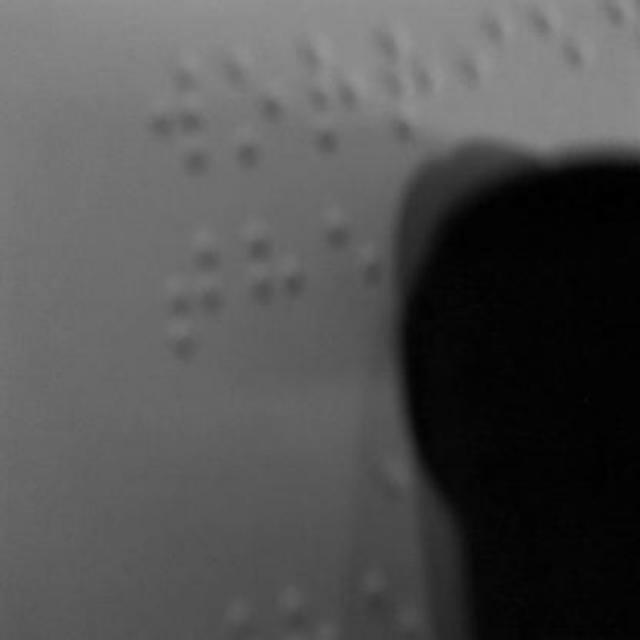braiile: (212, 40, 286, 184), (319, 202, 391, 342), (372, 15, 444, 147), (240, 210, 306, 354), (298, 31, 366, 169), (160, 219, 224, 365), (142, 55, 208, 188), (524, 1, 588, 137), (452, 8, 516, 134)
